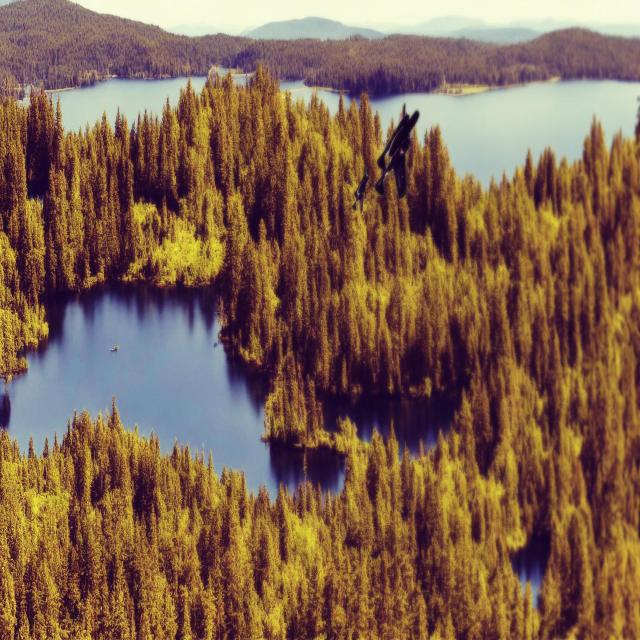airplane: (374, 102, 420, 199), (352, 170, 369, 212)
